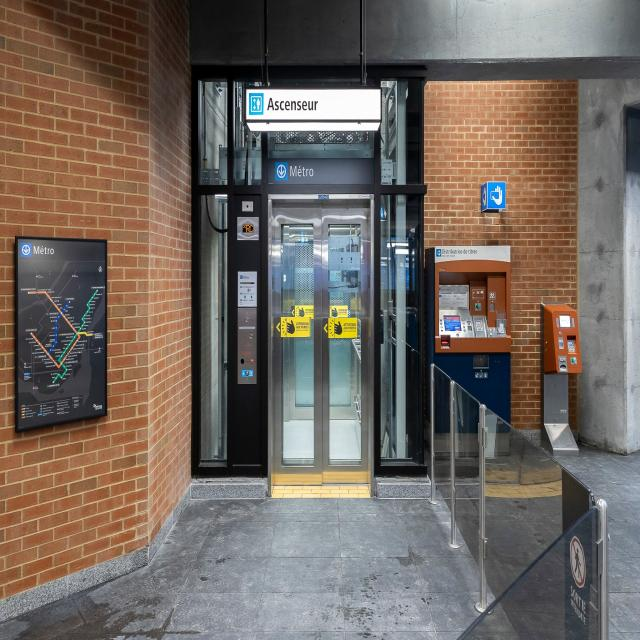elevator: (249, 92, 264, 116)
